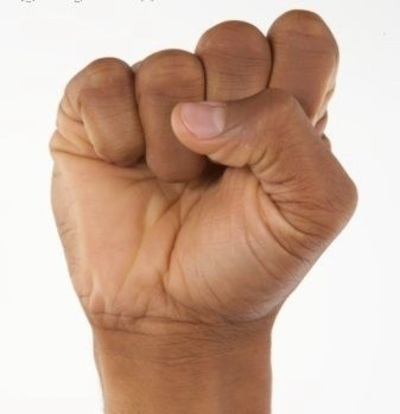closedhandfront: (25, 5, 380, 329)
